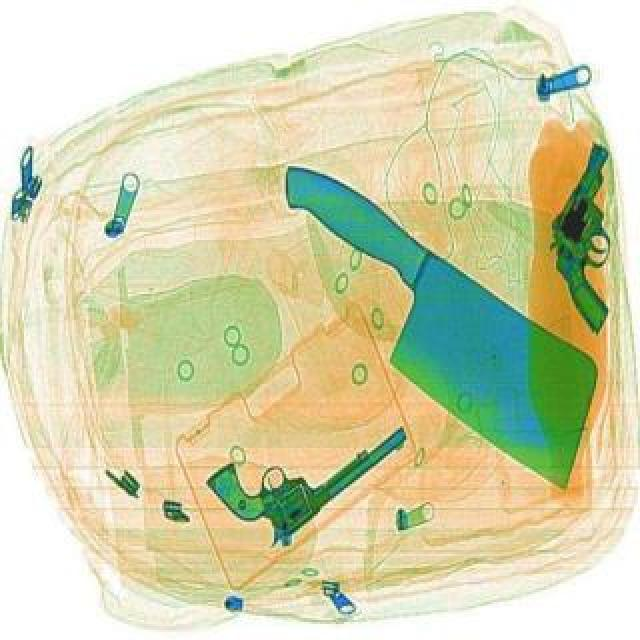gun: (200, 368, 416, 552), (548, 144, 608, 332)
knife: (218, 150, 638, 498)
